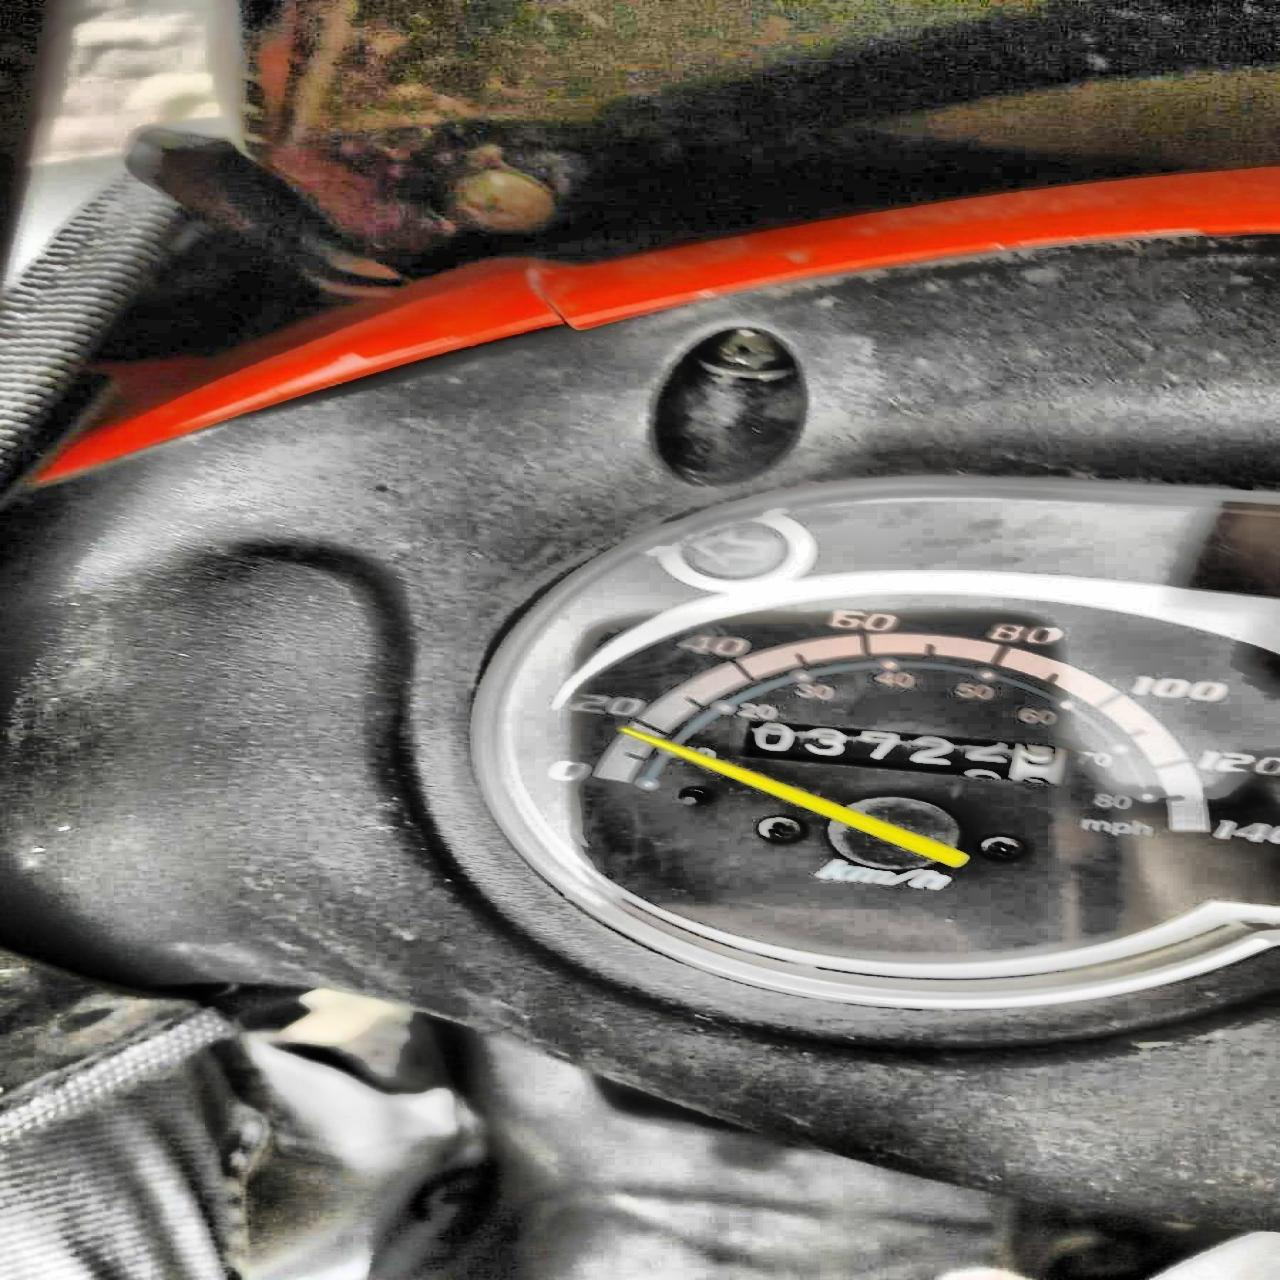0: (749, 722, 796, 751)
2: (908, 733, 956, 767), (968, 734, 1010, 763)
3: (797, 723, 849, 757)
7: (857, 726, 899, 760)
9: (1020, 738, 1061, 767)
odometer: (740, 719, 1070, 787)
